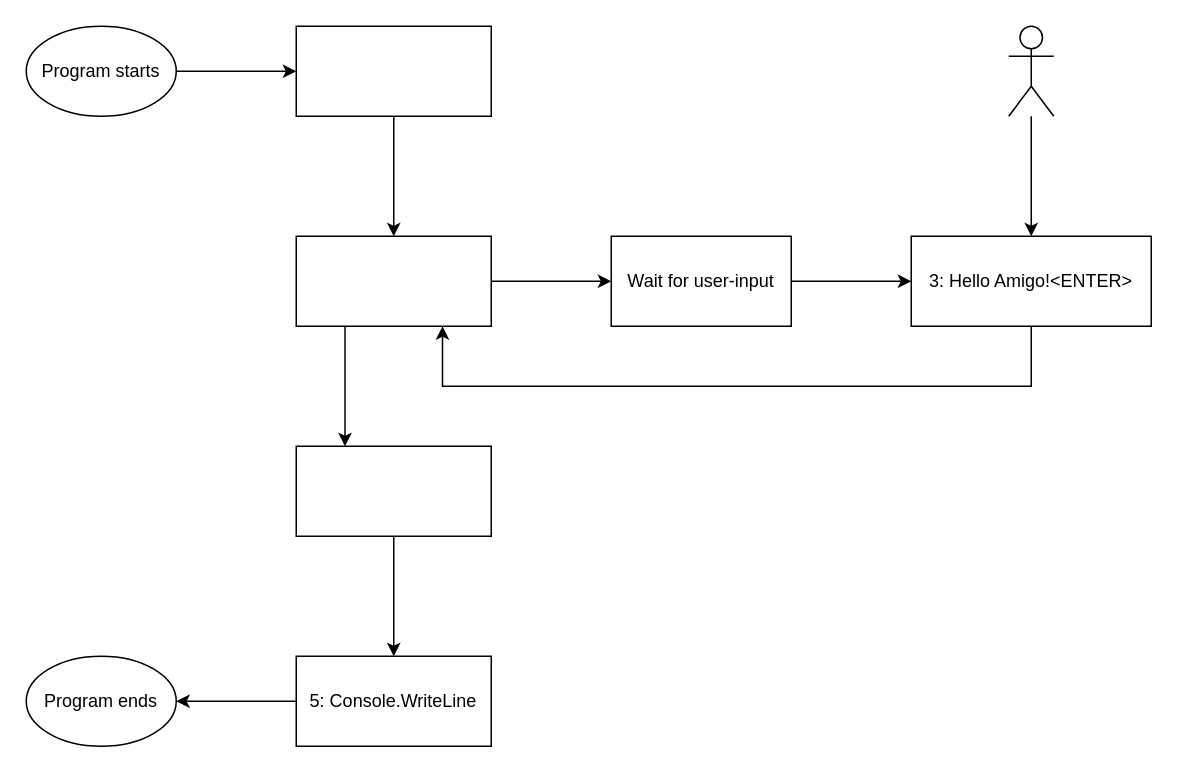
Some shapes in this 1178 by 773 pixel diagram are drawn without their labels. Each missing label, with the centre of its shape:
"1: Console.WriteLine" belongs at (x=393, y=70).
"2: Console.ReadLine" belongs at (x=393, y=280).
"4: Assigns the read result to the hello variable." belongs at (x=393, y=490).
